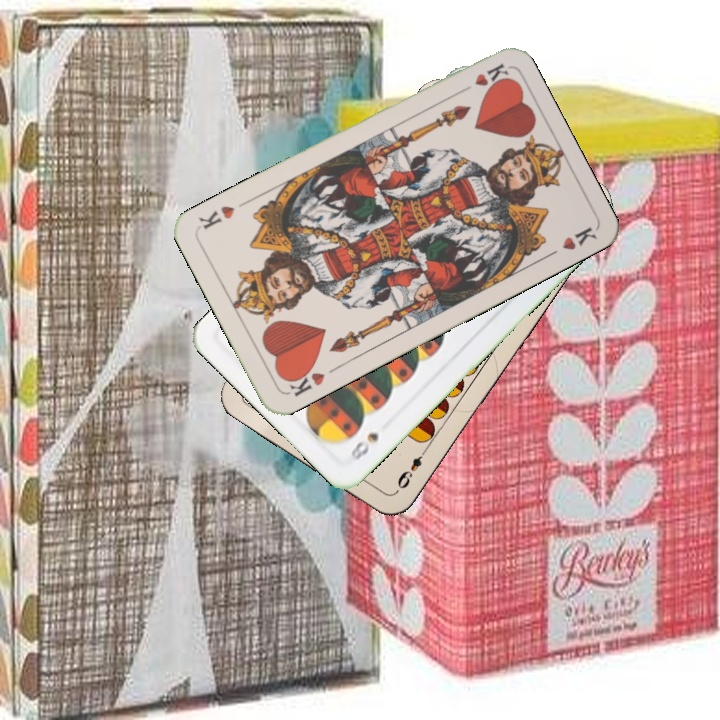E9: (391, 444, 430, 496)
HK: (453, 59, 511, 97), (282, 362, 328, 399)
S8: (347, 428, 382, 466)
